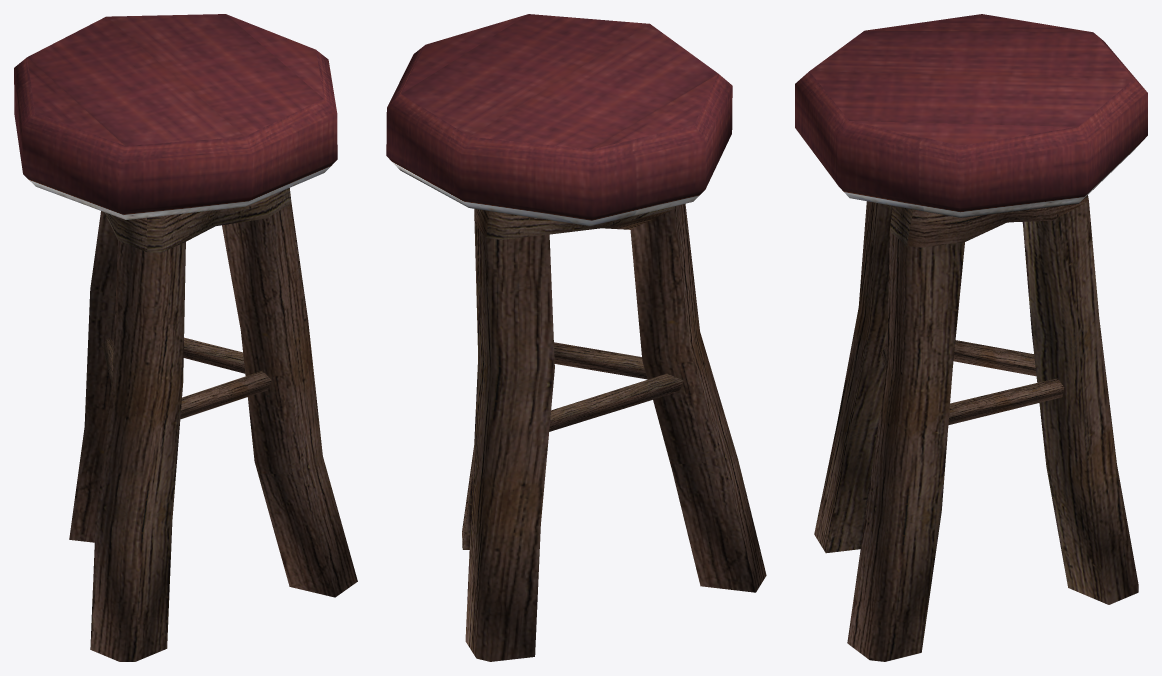
Rendered from M_Home_Garden_Stool_01.fbx.
The picture shows the model from 3 angles, left to right: view 1: azimuth 30°, elevation 25°; view 2: azimuth 150°, elevation 25°; view 3: azimuth 270°, elevation 25°; orthographic projection. The views are drawn at different scales.
Parts seen in each view (by area): view 1: M_Home_Garden_Stool_01; view 2: M_Home_Garden_Stool_01; view 3: M_Home_Garden_Stool_01.
Part boxes in pixels (x1=…): M_Home_Garden_Stool_01: x1=14, y1=14, x2=357, y2=661; M_Home_Garden_Stool_01: x1=386, y1=14, x2=766, y2=661; M_Home_Garden_Stool_01: x1=795, y1=14, x2=1147, y2=661.
Size of the model in its own units: 47.68 by 77.49 by 47.83.
